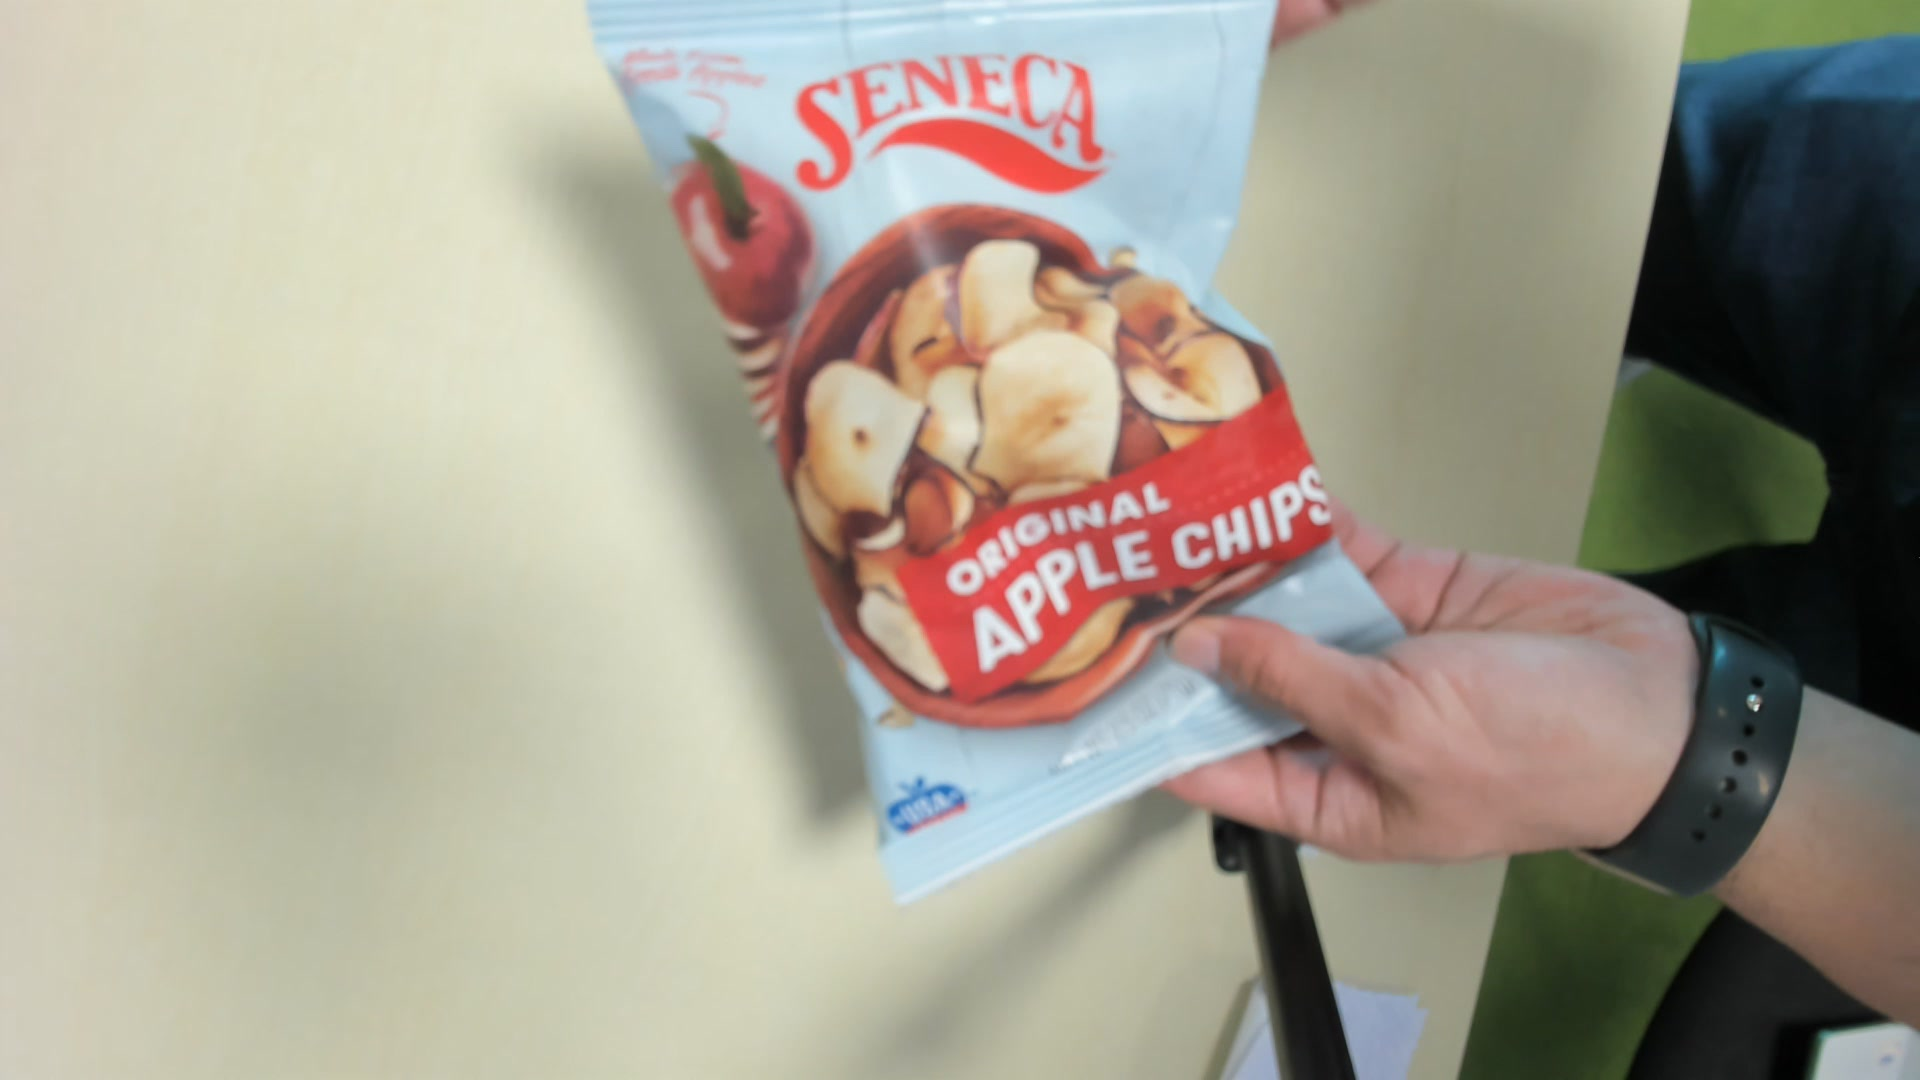PotatoChipsKeropok_0-99g_NonHalal_NonHealthy: (596, 7, 1420, 899)
